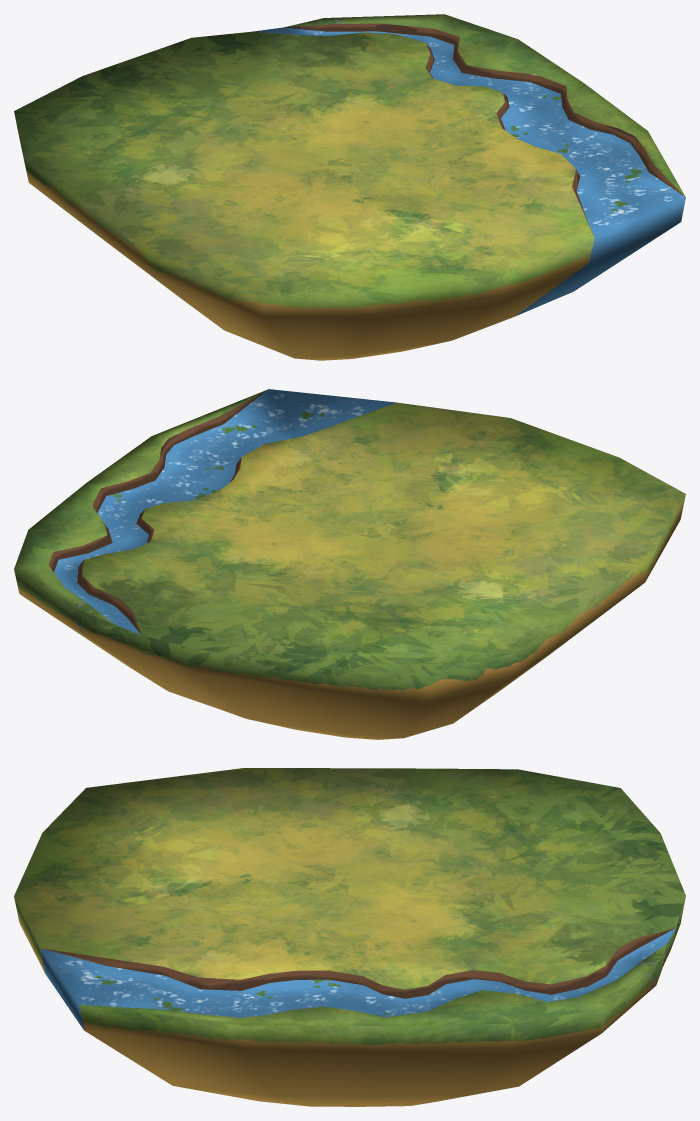
Rendered from IslandRiver.fbx.
3 renders of one model, top to bottom at view 1: azimuth 30°, elevation 25°; view 2: azimuth 150°, elevation 25°; view 3: azimuth 270°, elevation 25°, orthographic. The views are drawn at different scales.
Visible parts, largest first — view 1: IslandRiver; view 2: IslandRiver; view 3: IslandRiver.
Part boxes in pixels (<box>): IslandRiver: <box>14,14,685,360</box>; IslandRiver: <box>14,389,685,739</box>; IslandRiver: <box>14,768,685,1106</box>.
Bounding box in the file's own units: 60 × 18.24 × 66.02.
Materials: 1 (1 with a texture image).
